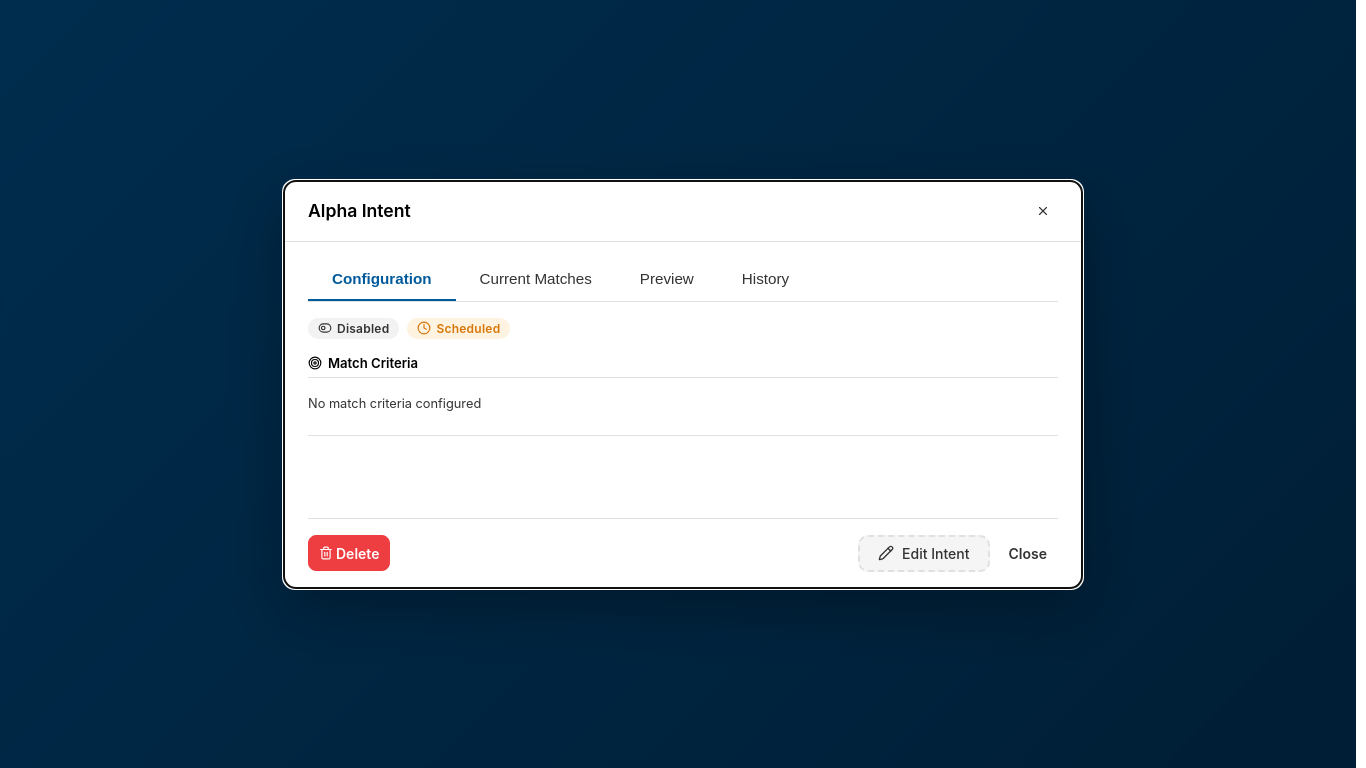
Test case: IntentDetailModal identity guards › keeps the live intent's preview when nothing changed
The image size is (1366, 768).
Click the tab "Current Matches" at (536, 279), box [456, 258, 616, 300]
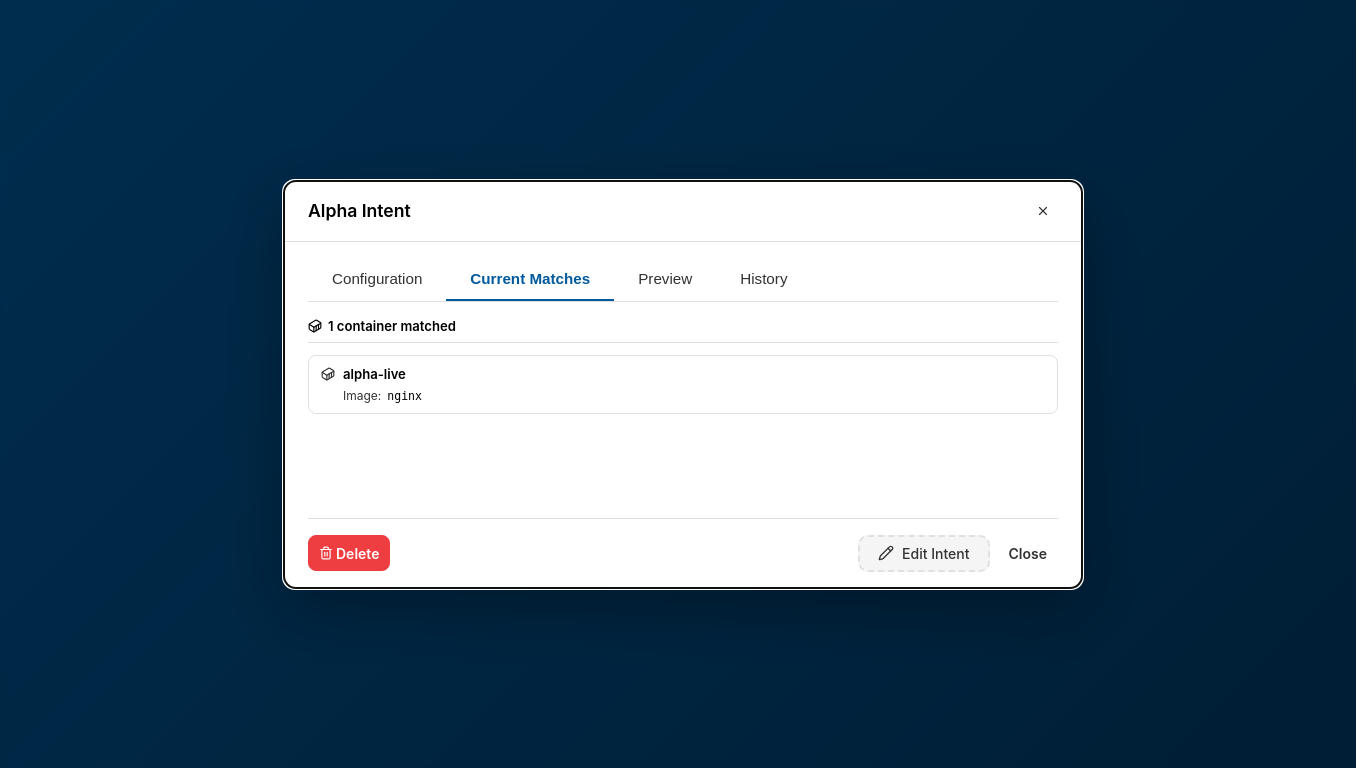
expect the text "alpha-live" is shown: met, box [343, 366, 406, 382]
